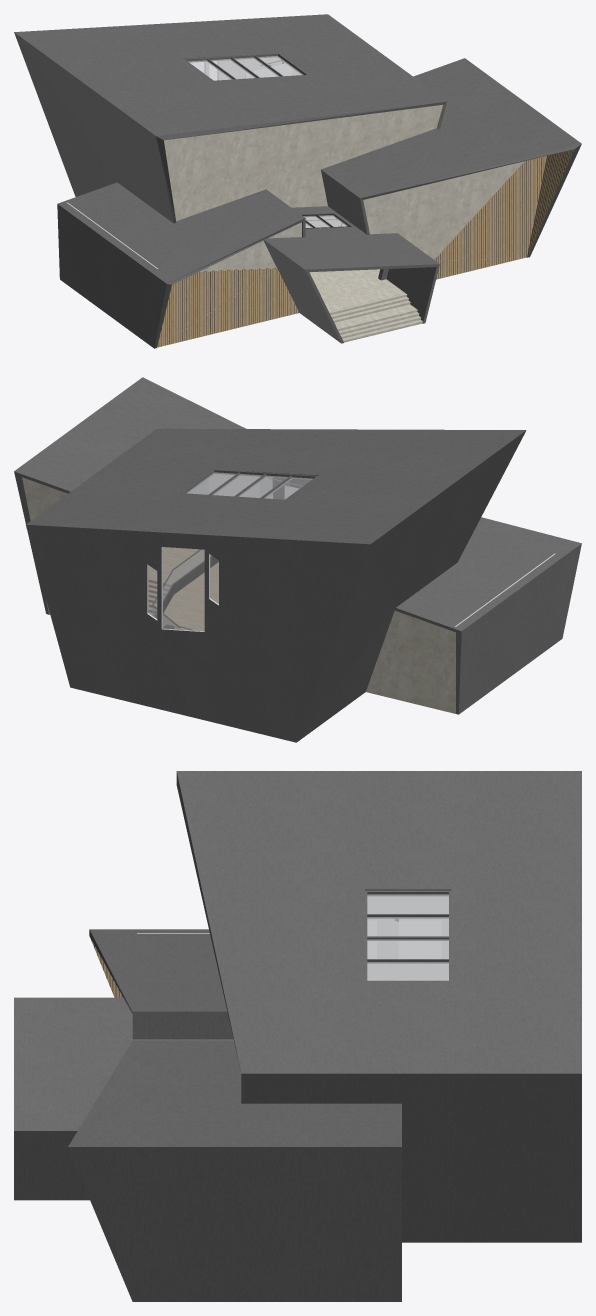
Rendered from Art Gallery Binus Digital.fbx.
3 renders of one model, top to bottom at view 1: azimuth 30°, elevation 25°; view 2: azimuth 150°, elevation 25°; view 3: azimuth 270°, elevation 25°, orthographic. The views are drawn at different scales.
Visible parts, largest first — view 1: Group21-alumuniu, Group14-alumuniu, Group15-alumuniu, Mesh52-grey_out, Mesh45-wood, Mesh45-alumuniu, Mesh45-grey_out, Group1-grey_ind, Group24, Group15-wood, Group19-dinding, Group6-alumuniu (+1 smaller); view 2: Group21-alumuniu, Group19-alumuniu, Group14-alumuniu, Group15-alumuniu, Group13-grey_out, Group18, Group24, Group1-d3350397, Mesh65-d3350397, Group12-grey_out, Square Picture.026, Group23; view 3: Group21-alumuniu, Group15-alumuniu, Mesh45-alumuniu, Group14-alumuniu, Group24, Group54, Square Picture.008, Group23.
Part boxes in pixels (left/top/right/bottom): Group21-alumuniu: left=14, top=14, right=447, bottom=223; Group14-alumuniu: left=57, top=182, right=305, bottom=348; Group15-alumuniu: left=321, top=58, right=581, bottom=257; Mesh52-grey_out: left=164, top=105, right=442, bottom=221; Mesh45-wood: left=157, top=156, right=546, bottom=347; Mesh45-alumuniu: left=264, top=233, right=439, bottom=343; Mesh45-grey_out: left=200, top=161, right=523, bottom=271; Group1-grey_ind: left=309, top=269, right=422, bottom=342; Group24: left=188, top=56, right=303, bottom=80; Group15-wood: left=527, top=149, right=574, bottom=257; Group19-dinding: left=204, top=57, right=301, bottom=80; Group6-alumuniu: left=292, top=206, right=365, bottom=236; Group21-alumuniu: left=26, top=428, right=526, bottom=742; Group19-alumuniu: left=29, top=528, right=361, bottom=741; Group14-alumuniu: left=395, top=517, right=581, bottom=714; Group15-alumuniu: left=14, top=377, right=246, bottom=614; Group13-grey_out: left=366, top=610, right=455, bottom=713; Group18: left=148, top=547, right=218, bottom=631; Group24: left=187, top=472, right=312, bottom=499; Group1-d3350397: left=163, top=562, right=218, bottom=630; Mesh65-d3350397: left=148, top=547, right=204, bottom=586; Group12-grey_out: left=22, top=477, right=67, bottom=614; Square Picture.026: left=208, top=474, right=259, bottom=497; Group23: left=180, top=469, right=317, bottom=499; Group21-alumuniu: left=176, top=771, right=581, bottom=1242; Group15-alumuniu: left=68, top=1040, right=401, bottom=1301; Mesh45-alumuniu: left=14, top=997, right=136, bottom=1200; Group14-alumuniu: left=89, top=929, right=233, bottom=1039; Group24: left=367, top=894, right=448, bottom=980; Group54: left=367, top=896, right=448, bottom=979; Square Picture.008: left=398, top=920, right=441, bottom=958; Group23: left=365, top=890, right=451, bottom=981.
Bounding box in the file's own units: 2926 × 1352 × 2476.
